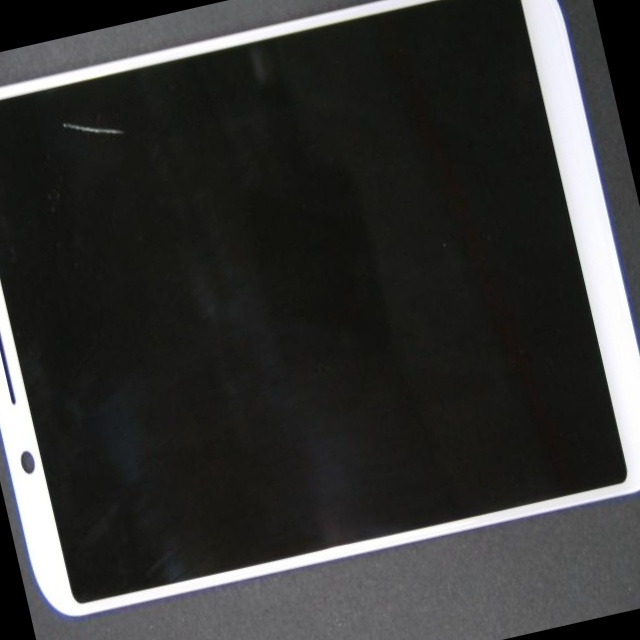scratch: (63, 77, 211, 169)
